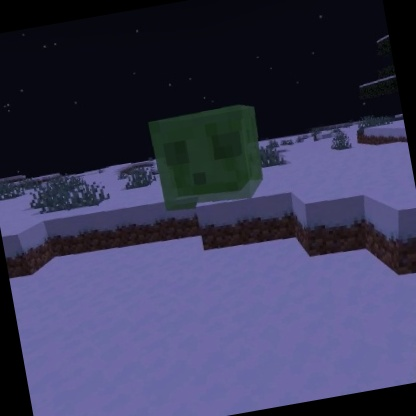slime: (146, 97, 274, 216)
